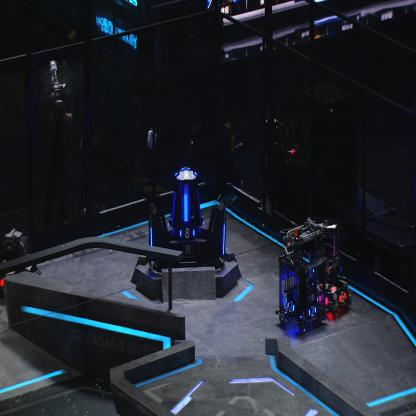car: (275, 221, 326, 333), (302, 216, 340, 298), (0, 230, 42, 300), (314, 261, 352, 318)
